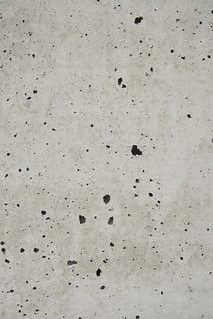Spalling: (1, 1, 213, 319)
